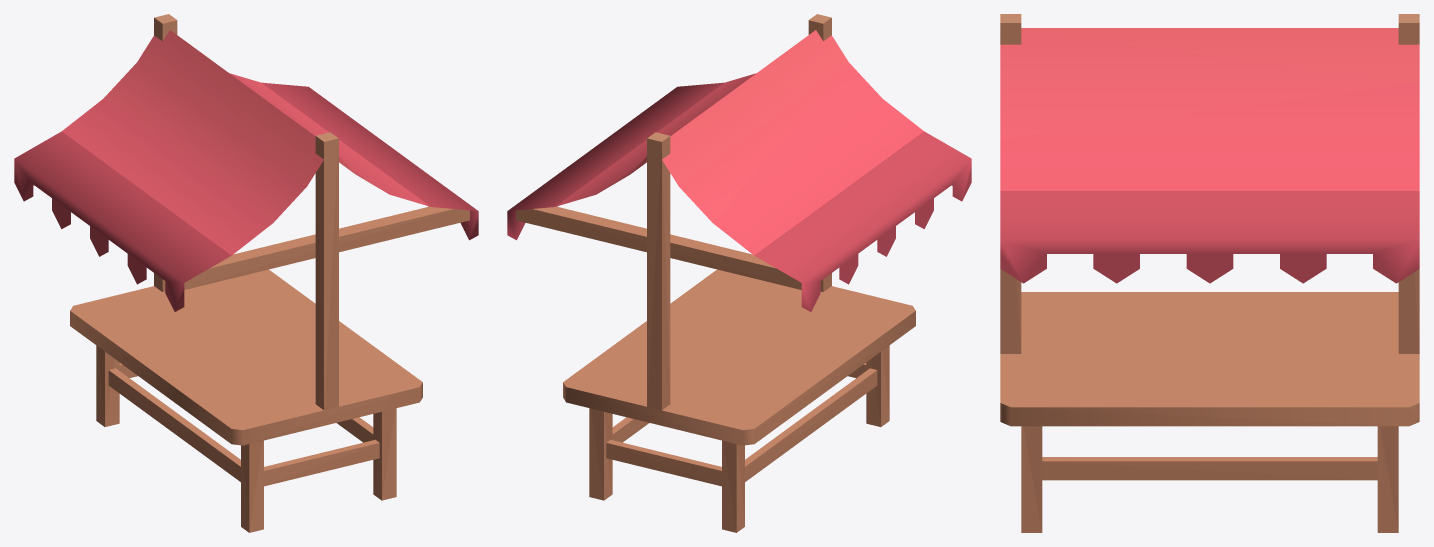
The model's file is kenney_town_stall_red.glb.
3 views of the same model, side by side, from view 1: azimuth 30°, elevation 25°; view 2: azimuth 150°, elevation 25°; view 3: azimuth 270°, elevation 25° (orthographic). The views are drawn at different scales.
Visible parts, largest first — view 1: wood, cloth; view 2: wood, cloth; view 3: wood, cloth.
Part boxes in pixels (x1,y1,x2,y2): wood: [14, 14, 478, 532]; cloth: [62, 30, 430, 255]; wood: [507, 14, 971, 532]; cloth: [555, 30, 923, 255]; wood: [1000, 14, 1419, 532]; cloth: [1000, 28, 1419, 190].
Bounding box in the file's own units: 1 × 1.24 × 1.
